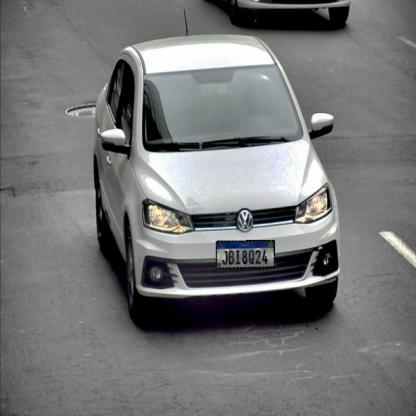PlacaM: (216, 240, 275, 269)
